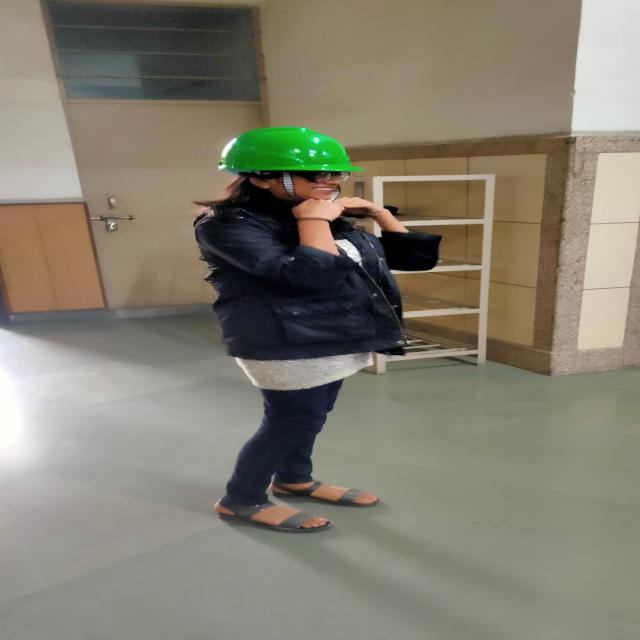no jacket: (192, 129, 385, 531)
